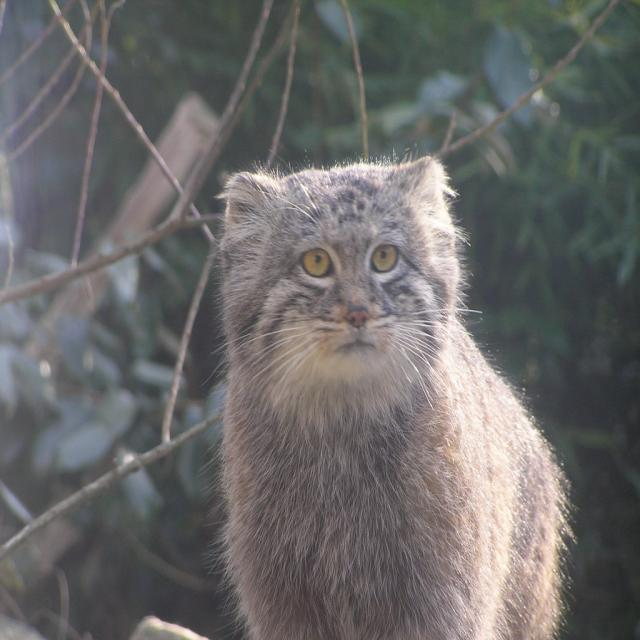Cat: (199, 148, 584, 637)
